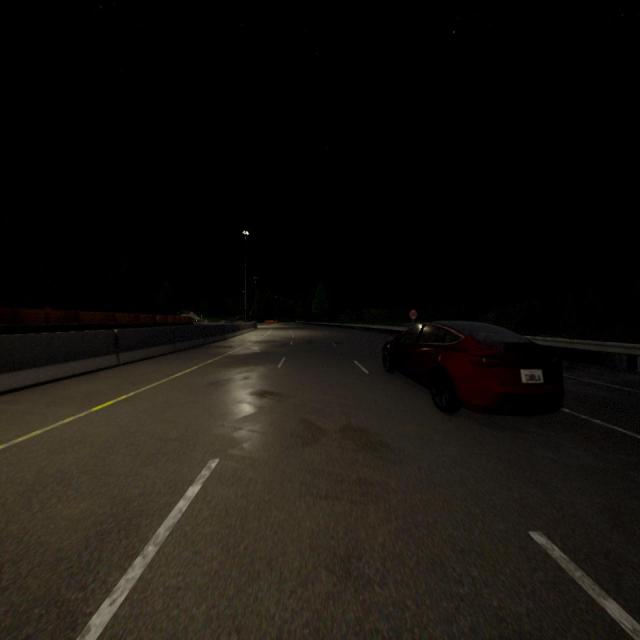Traffic_Signs: (410, 309, 417, 319), (154, 314, 162, 322)
Vehicle: (382, 322, 564, 414), (166, 308, 200, 324)
